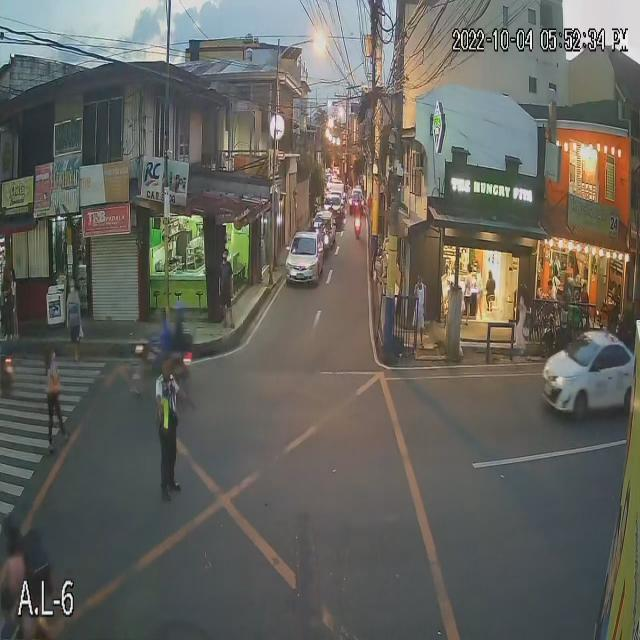motorcycle: (130, 337, 195, 381), (0, 350, 17, 393), (352, 216, 363, 239)
rider: (150, 326, 170, 361), (171, 323, 186, 359), (350, 201, 362, 222)
